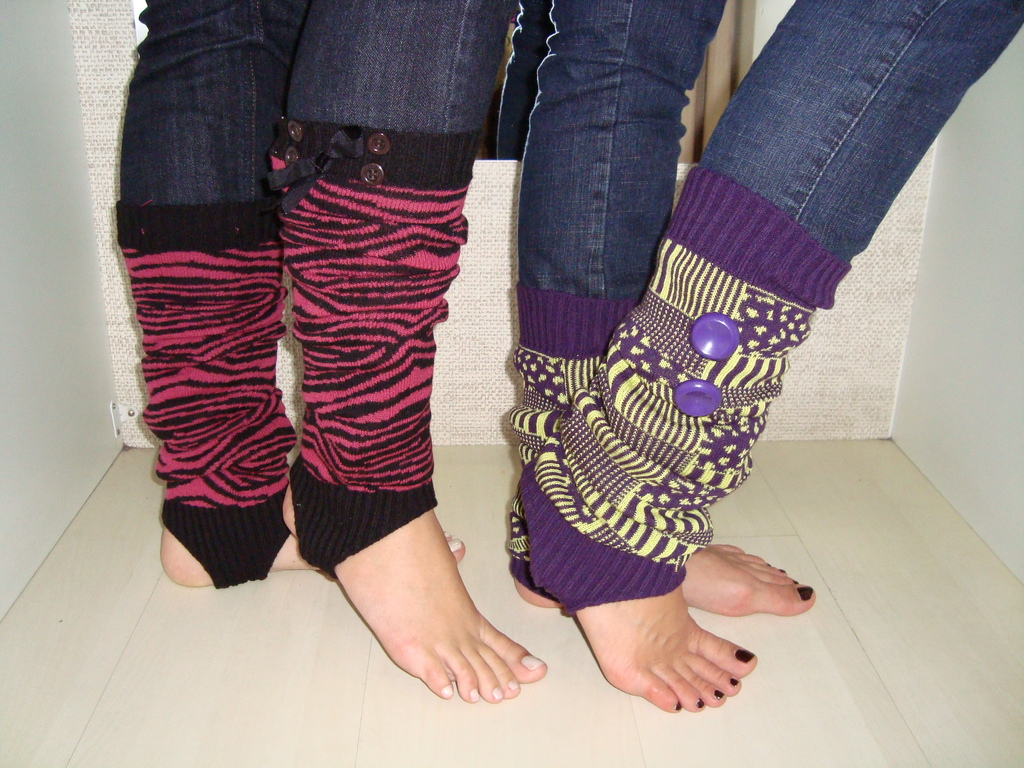Person: (508, 0, 1024, 713), (116, 0, 547, 703)
